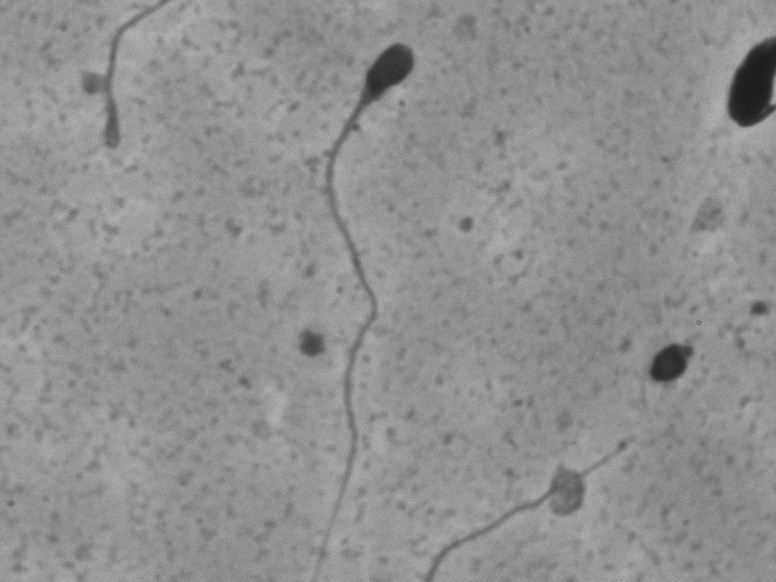Abnormal: (279, 28, 433, 555)
